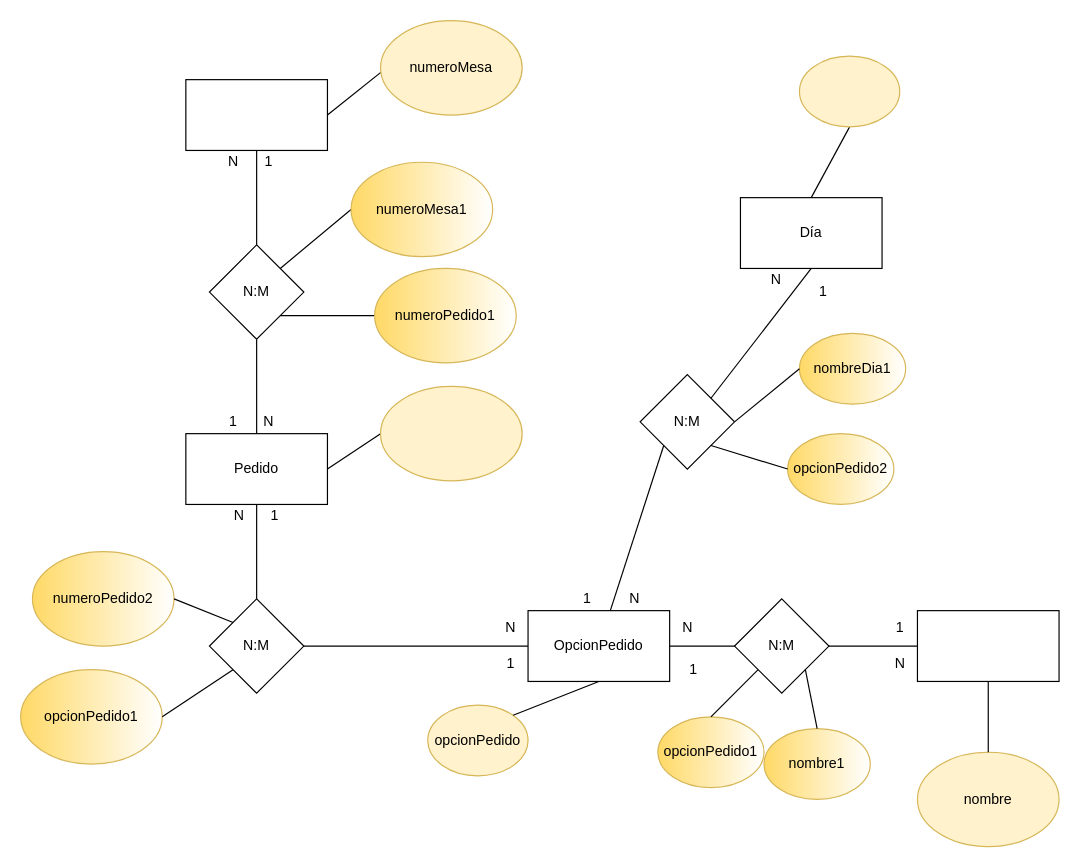
The diagram is 1080 pixels wide and 867 high, and some of its shapes have lost their labels. Each missing label, with the centre of its shape:
"Cliente" goes at point (987, 645).
"Mesa" goes at point (256, 114).
"nombreDia" goes at point (849, 91).
"numeroPedido" goes at point (450, 433).
